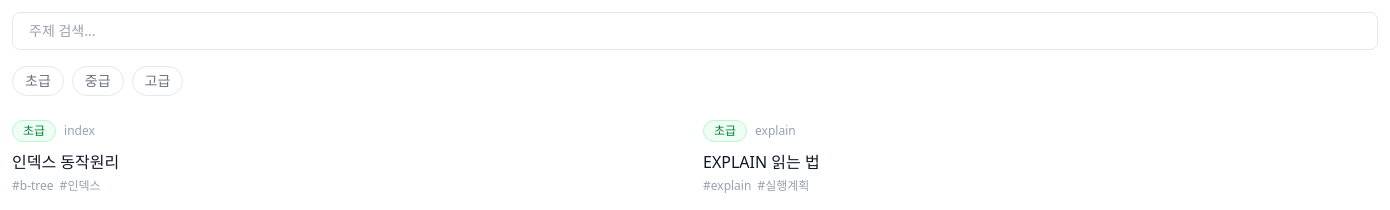
ContentList › 검색어 입력 시 일치하는 콘텐츠만 표시한다
This screenshot has width=1390, height=210.
Type "인덱스" into the field with placeholder "주제 검색..." at (695, 31), box [12,12,1378,50]
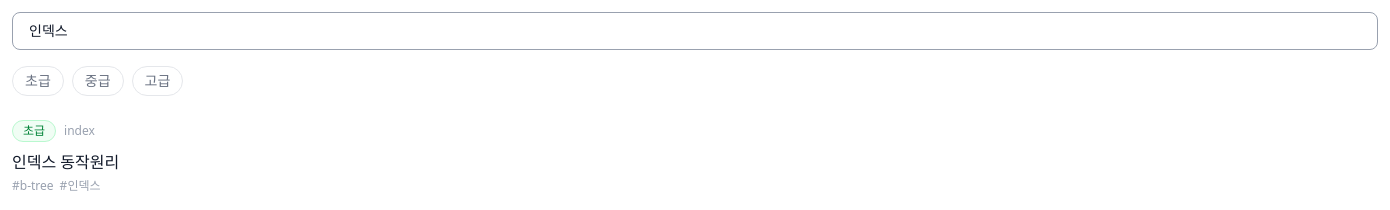
Check: the heading "인덱스 동작원리" is shown, box [12,151,119,173]
Check: the link "EXPLAIN 읽는 법" is gone
